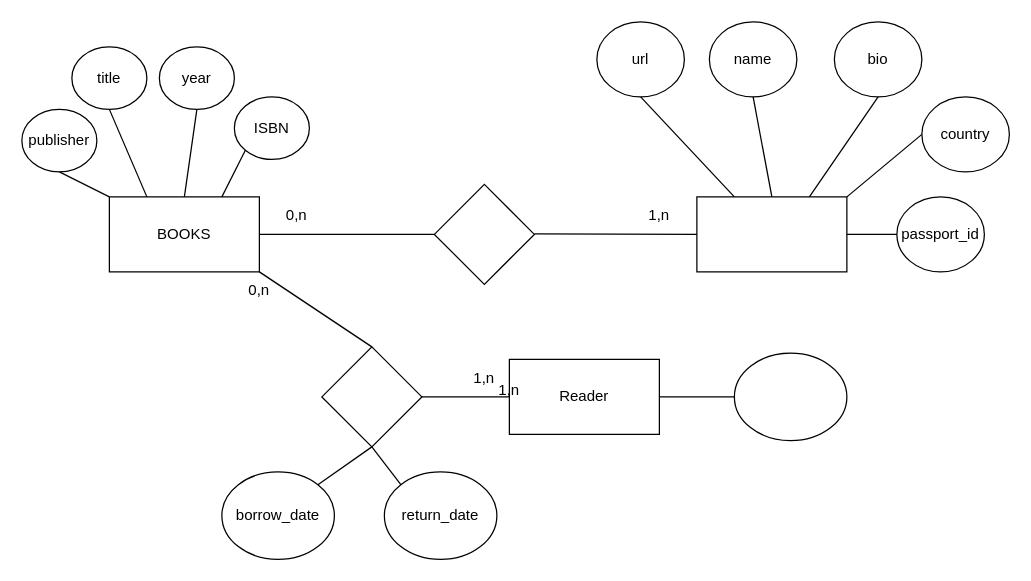
This 1031x581 diagram has some shape labels left out. The shapes that lost their labels are listed below. From the top down, each one's box as (x1, y1, x2, y2) in pixels, then its label:
(433, 183, 534, 284): Authored
(696, 196, 847, 272): Author
(321, 346, 422, 447): Borrow
(733, 352, 847, 441): idcard
